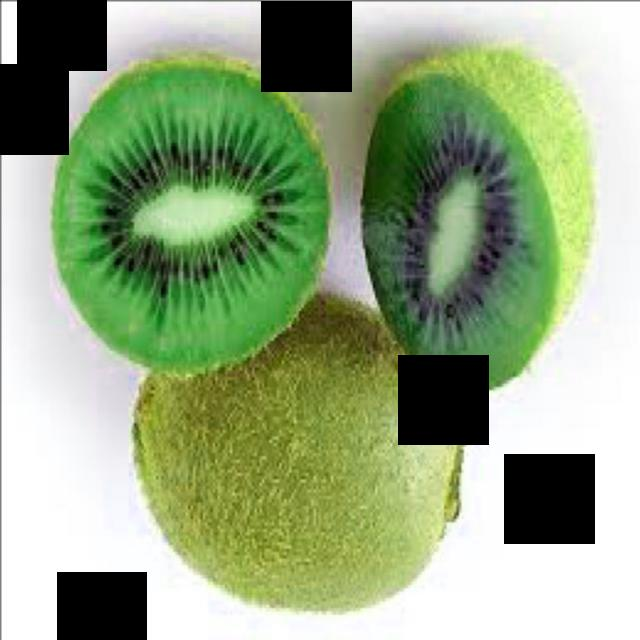kiwi: (137, 292, 472, 618)
